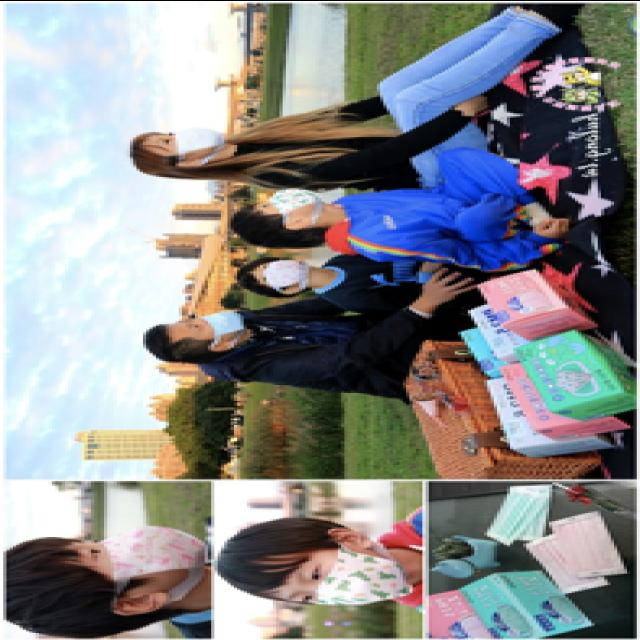with_mask: (280, 550, 412, 604), (74, 522, 204, 576), (250, 184, 324, 213), (153, 125, 221, 154), (170, 307, 243, 333), (254, 256, 308, 285)
